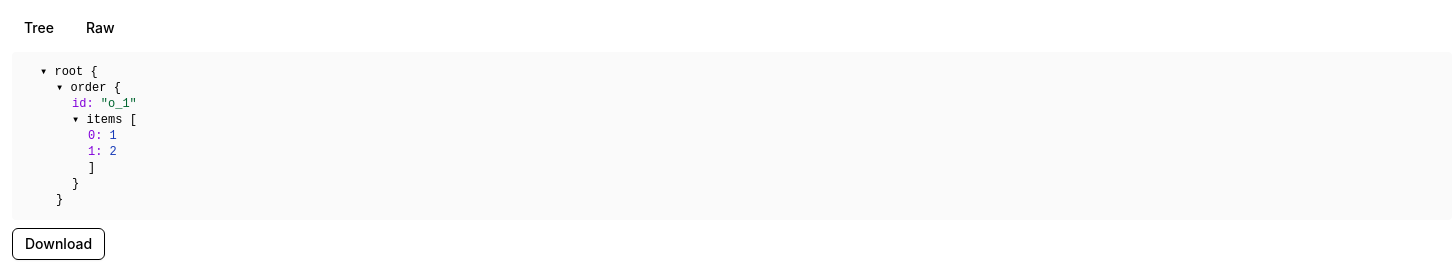
it: JsonViewer › renders JSON as a collapsible tree
Check: the text "\"o_1\"" is shown, box 101,97 -> 137,111
Step 1. Click the button "▾ order {" → (88, 88), box 56,80 -> 121,96
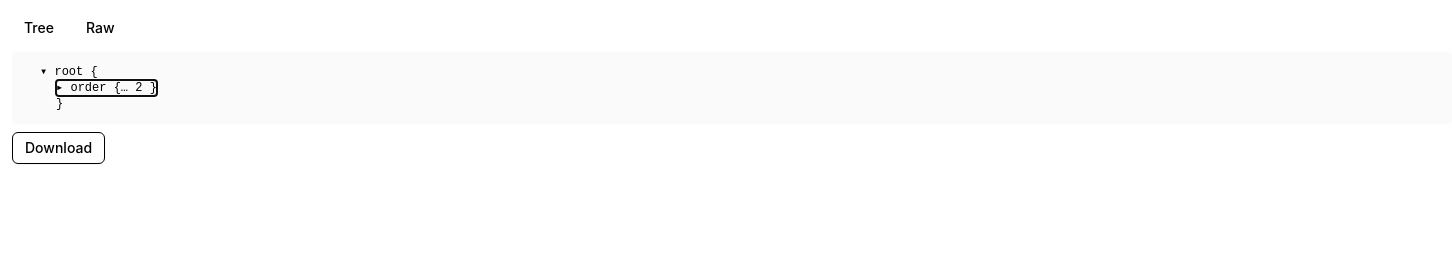
Check: the text "\"o_1\"" is gone
